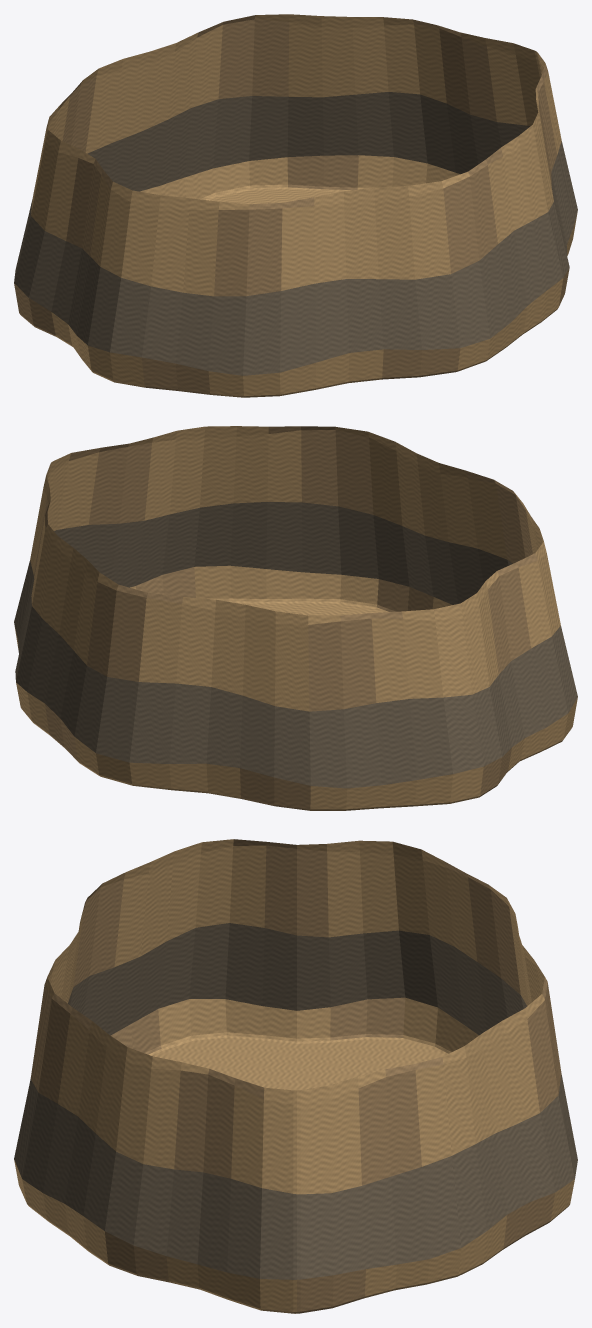
The model's file is Cliff_Upper.fbx.
The picture shows the model from 3 angles, top to bottom: view 1: azimuth 30°, elevation 25°; view 2: azimuth 150°, elevation 25°; view 3: azimuth 270°, elevation 25°; orthographic projection. The views are drawn at different scales.
Visible parts, largest first — view 1: Cliff_Upper; view 2: Cliff_Upper; view 3: Cliff_Upper.
Boxes of the visible parts, x1,y1,x2,y2 form: Cliff_Upper: (14,14,577,397); Cliff_Upper: (14,426,577,810); Cliff_Upper: (14,839,577,1313).
Size of the model in its own units: 3546 by 2967 by 1220.
